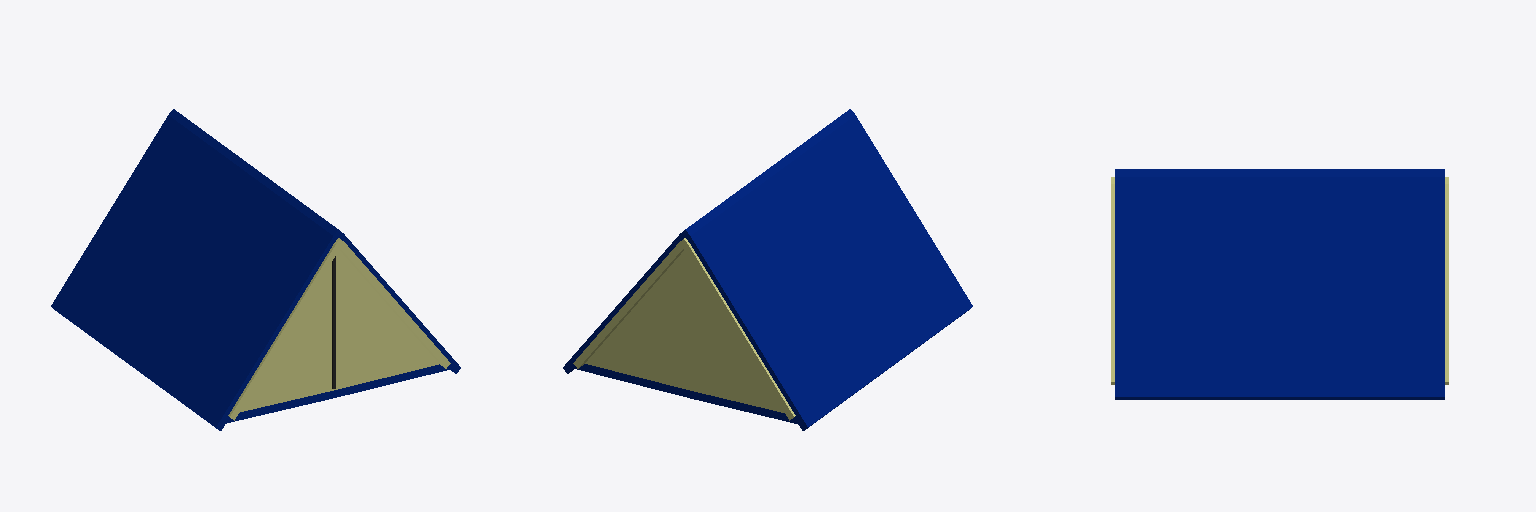
The model's file is tentDriehoekBlauw.obj.
3 views of the same model, side by side, from view 1: azimuth 30°, elevation 25°; view 2: azimuth 150°, elevation 25°; view 3: azimuth 270°, elevation 25° (orthographic).
Visible parts, largest first — view 1: Cube_Cube.002, Cube.001_Cube.003; view 2: Cube_Cube.002, Cube.001_Cube.003; view 3: Cube_Cube.002, Cube.001_Cube.003.
Part boxes in pixels (x1,y1,x2,y2): Cube_Cube.002: (51,109,460,430); Cube.001_Cube.003: (228,238,450,420); Cube_Cube.002: (563,109,972,430); Cube.001_Cube.003: (573,238,795,420); Cube_Cube.002: (1115,169,1444,399); Cube.001_Cube.003: (1111,177,1448,384).
Size of the model in its own units: 1.71 by 1.16 by 2.04.